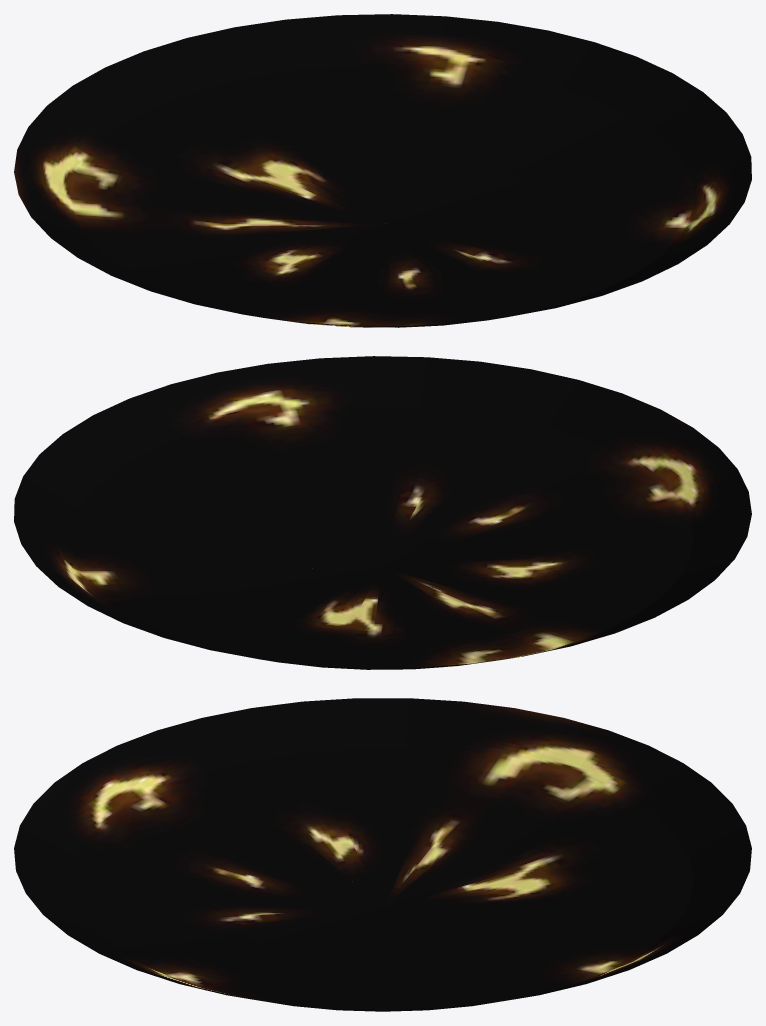
File: 0390_panzi.glb
3 renders of one model, top to bottom at view 1: azimuth 30°, elevation 25°; view 2: azimuth 150°, elevation 25°; view 3: azimuth 270°, elevation 25°, orthographic.
Size of the model in its own units: 2.2 by 0.1796 by 2.2.
1 material, 1 textured.
